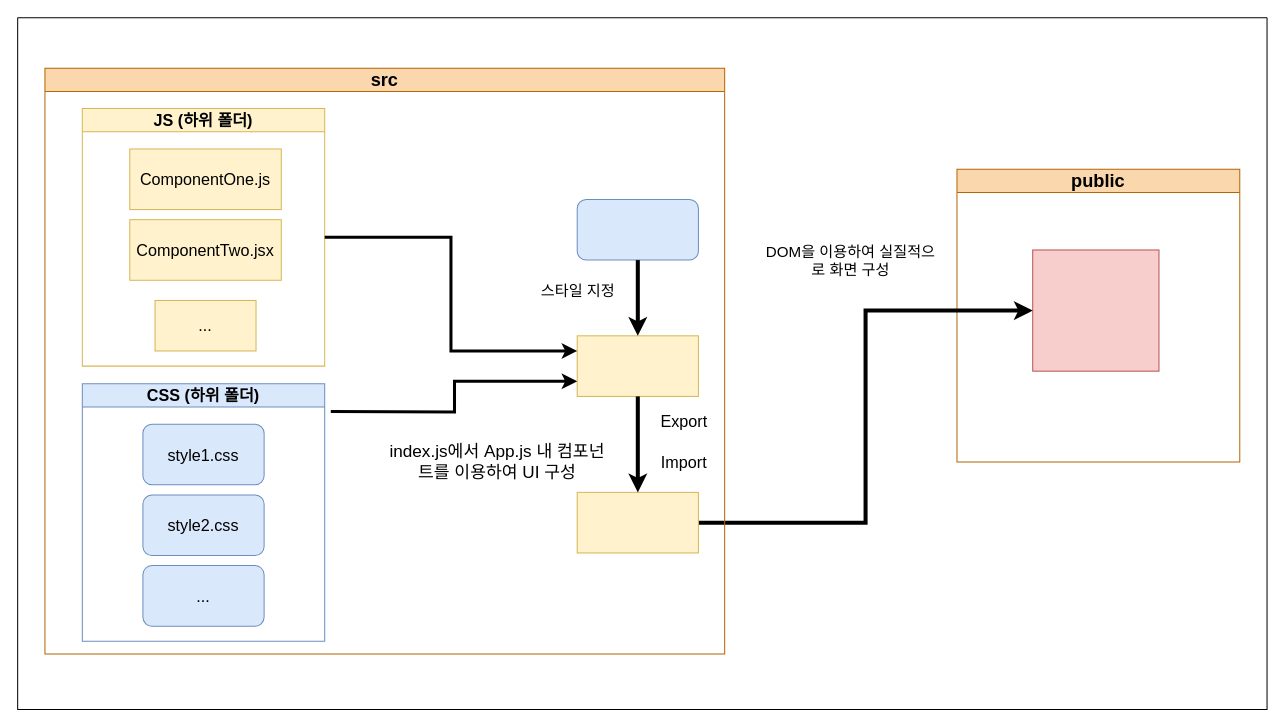
The diagram is 1285 pixels wide and 727 high, and some of its shapes have lost their labels. The centre of each missing label's shape, as x and y in pixels:
"App.css" goes at [637,229].
"App.js" goes at [637,365].
"index.html" goes at [1095,310].
"index.js" goes at [637,522].
